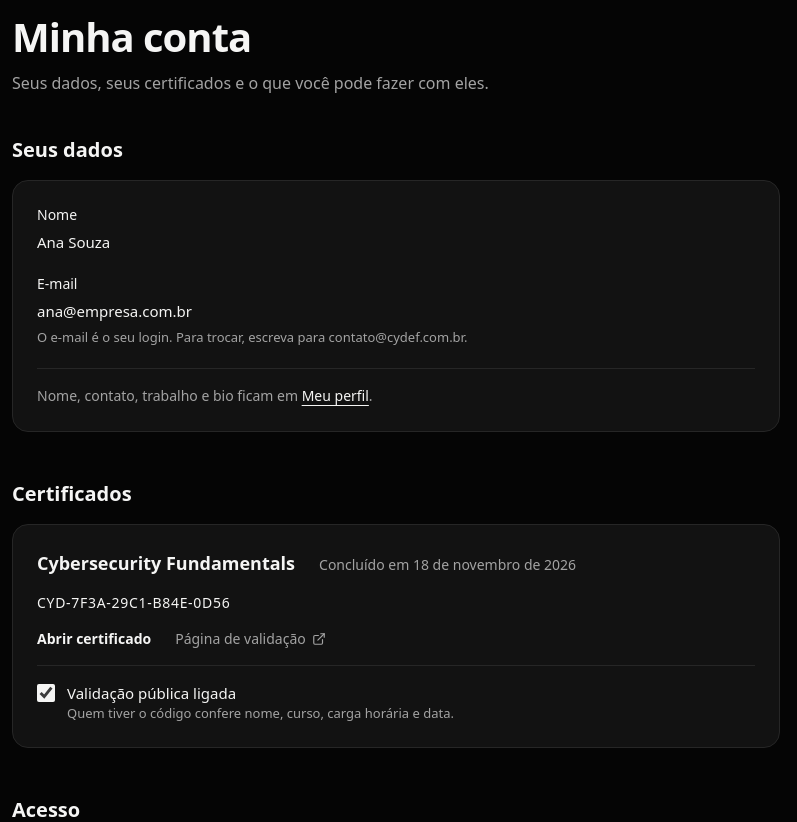
Test: Minha conta › lista certificados e desliga a validação pública
Expected: the text "CYD-7F3A-29C1-B84E-0D56" is shown, [37,593,230,612]
Click the checkbox labelled "Validação pública ligada". click: coordinates (46, 693)
box: [37,684,55,702]
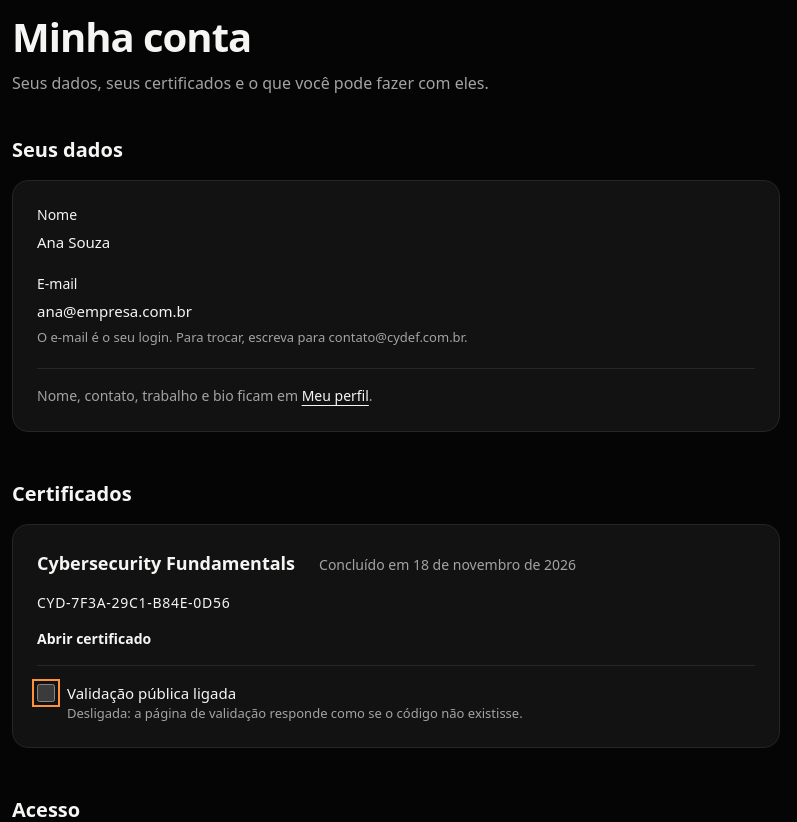
Expected: the text "Desligada: a página de validação responde" is shown, [67,704,523,722]
